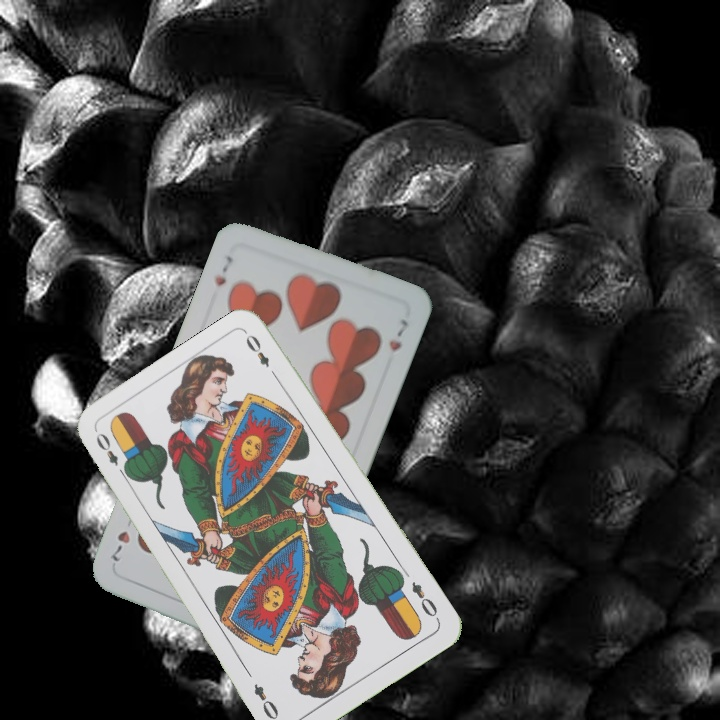EO: (91, 428, 131, 481), (407, 577, 442, 623)
H7: (210, 251, 236, 289)
